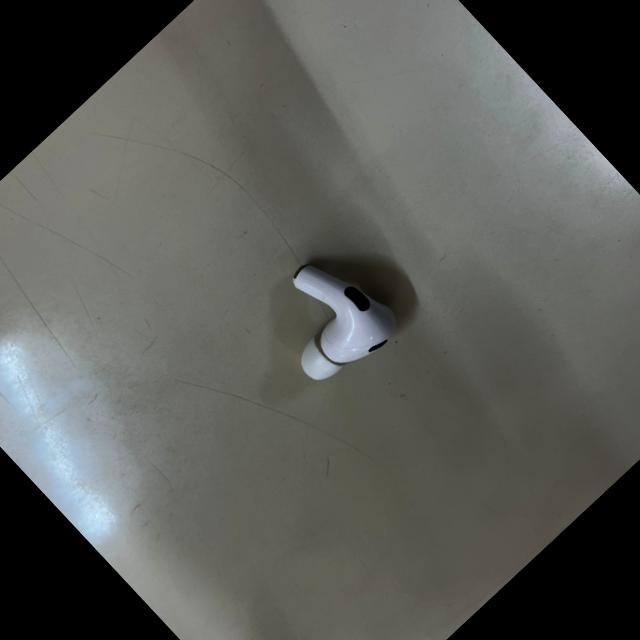inorganic: (247, 237, 411, 401)
